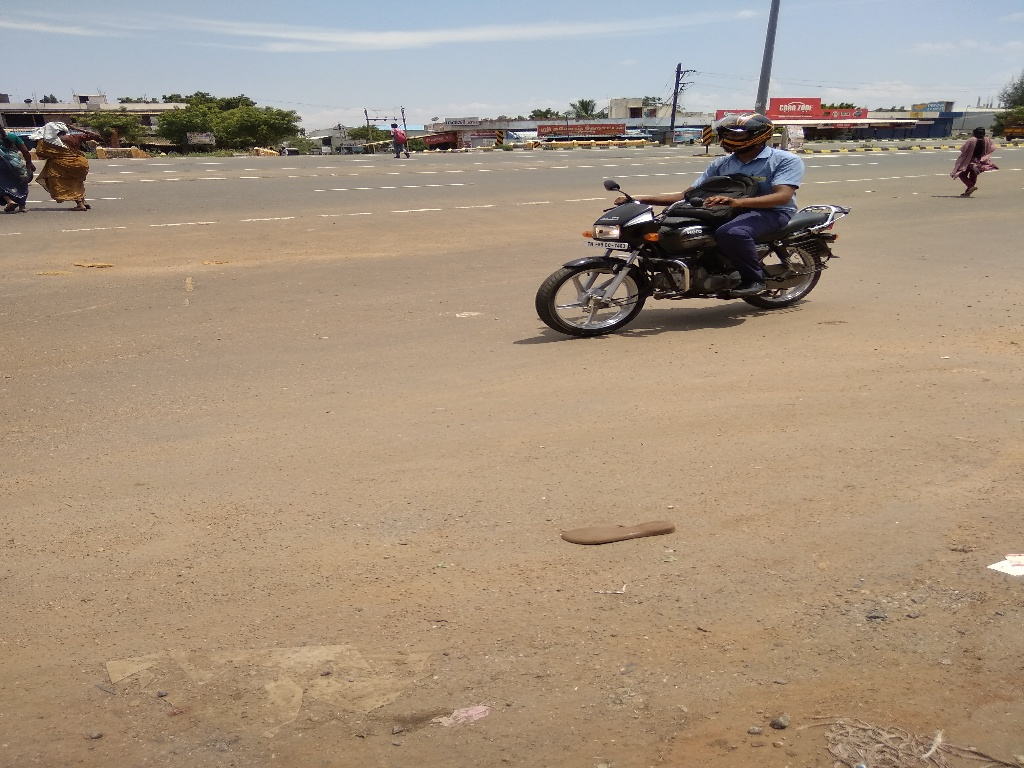biker: (511, 76, 887, 354)
helmet: (700, 101, 796, 168)
